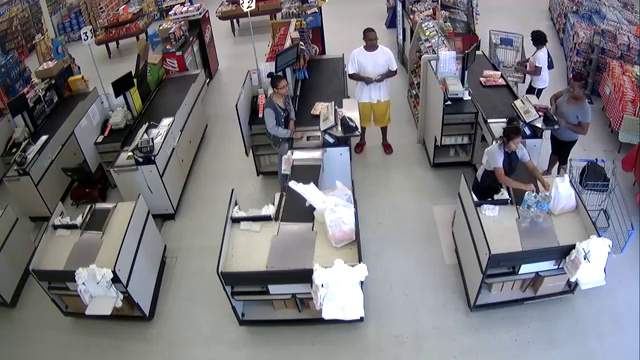face: (564, 82, 583, 103), (365, 33, 379, 48), (507, 137, 521, 151), (276, 81, 289, 96)
